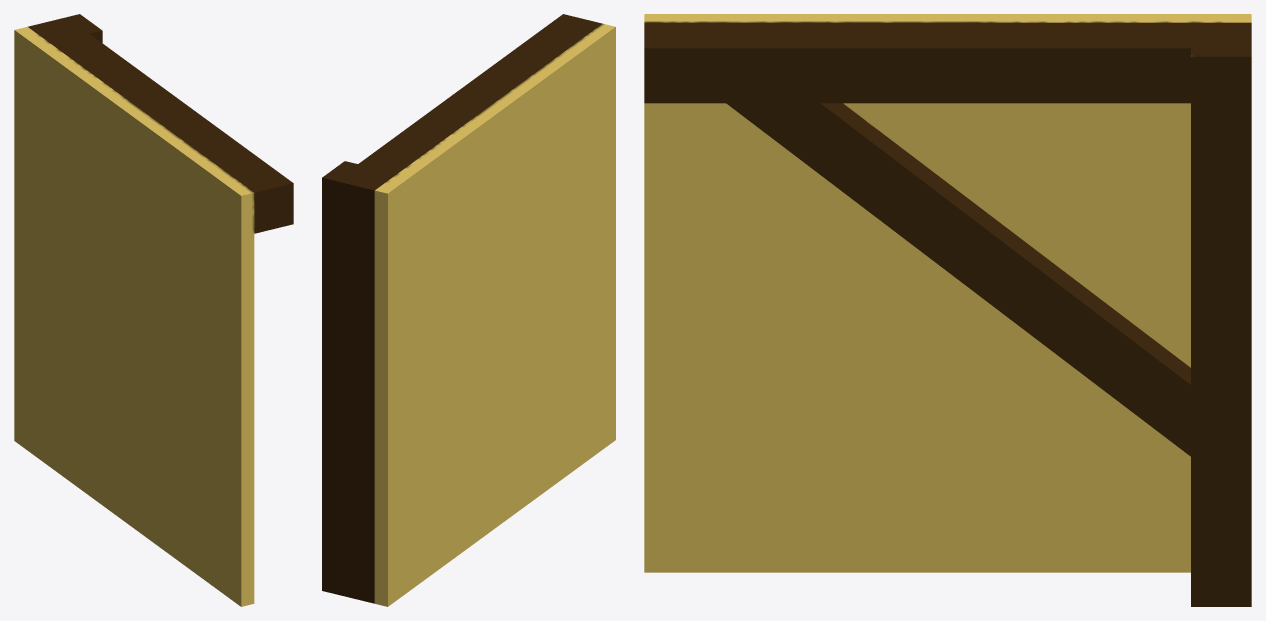
Rendered from WallPiece.fbx.
3 views of the same model, side by side, from view 1: azimuth 30°, elevation 25°; view 2: azimuth 150°, elevation 25°; view 3: azimuth 270°, elevation 25° (orthographic). The views are drawn at different scales.
Visible parts, largest first — view 1: WallPiece; view 2: WallPiece; view 3: WallPiece.
Boxes of the visible parts, x1,y1,x2,y2 form: WallPiece: (14,14,293,606); WallPiece: (322,14,615,606); WallPiece: (644,14,1251,606).
Bounding box in the file's own units: 100 × 600 × 600.
